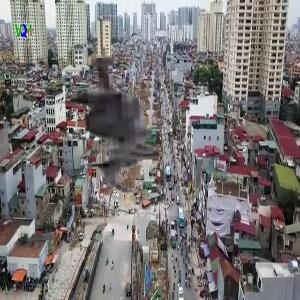drone: (17, 30, 192, 205)
